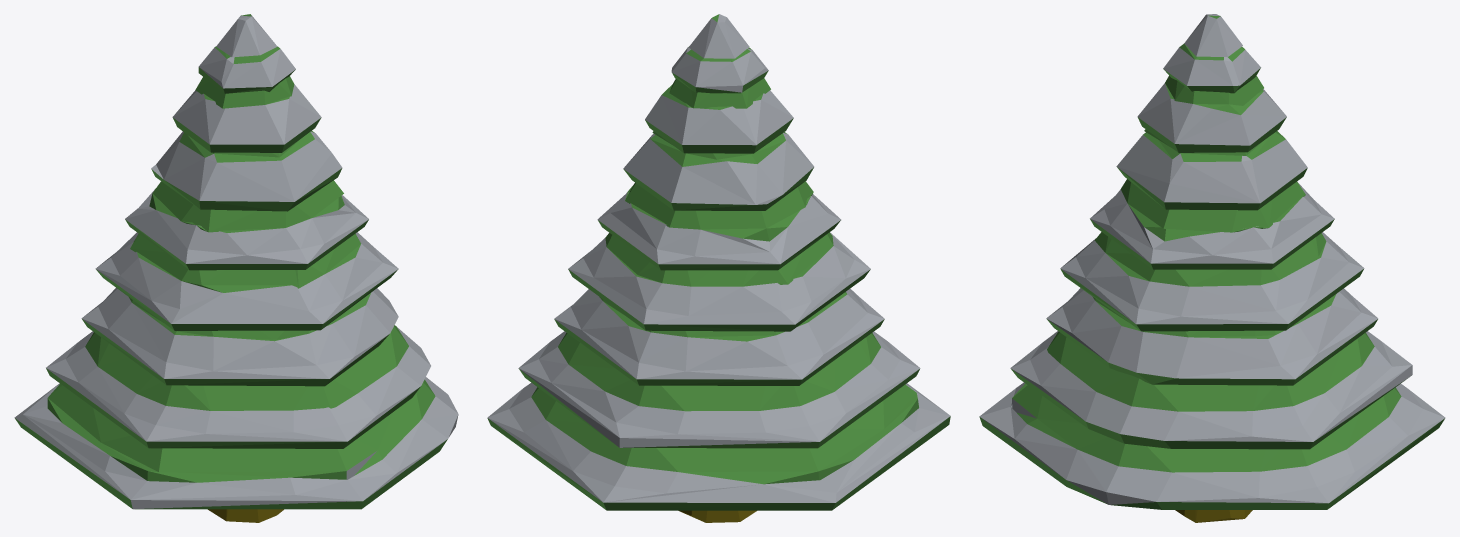
Rendered from tree2_5.fbx.
The picture shows the model from 3 angles, left to right: view 1: azimuth 30°, elevation 25°; view 2: azimuth 150°, elevation 25°; view 3: azimuth 270°, elevation 25°; orthographic projection.
Parts seen in each view (by area): view 1: Cylinder.003; view 2: Cylinder.003; view 3: Cylinder.003.
Boxes of the visible parts, x1,y1,x2,y2 form: Cylinder.003: (14,14,458,522); Cylinder.003: (487,14,950,522); Cylinder.003: (979,14,1445,522).
Bounding box in the file's own units: 298 × 398 × 343.
